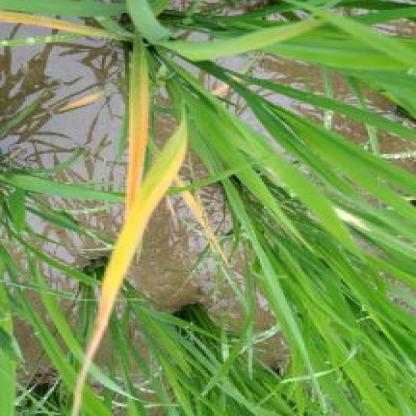Tungro: (115, 1, 160, 256)
